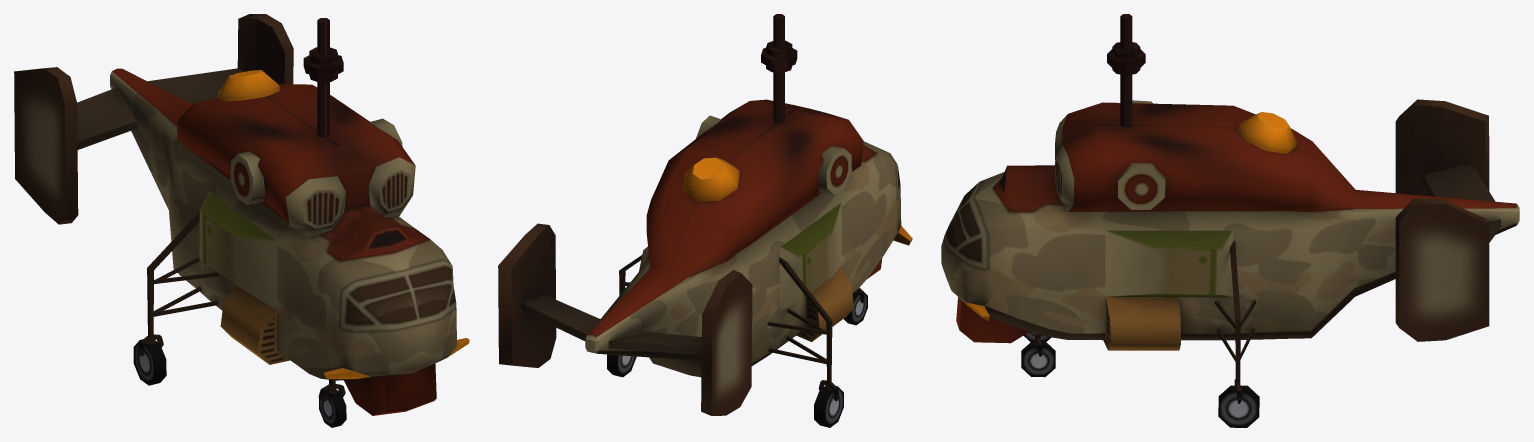
Rendered from chopper3.obj.
The picture shows the model from 3 angles, left to right: view 1: azimuth 30°, elevation 25°; view 2: azimuth 150°, elevation 25°; view 3: azimuth 270°, elevation 25°; orthographic projection. The views are drawn at different scales.
Visible parts, largest first — view 1: catoon_Ka28; view 2: catoon_Ka28; view 3: catoon_Ka28.
Part boxes in pixels (left/top/right/bottom): catoon_Ka28: left=14, top=14, right=469, bottom=427; catoon_Ka28: left=498, top=14, right=912, bottom=427; catoon_Ka28: left=941, top=14, right=1519, bottom=427.
Bounding box in the file's own units: 20.46 × 29.51 × 43.35.
Materials: 1 (1 with a texture image).
